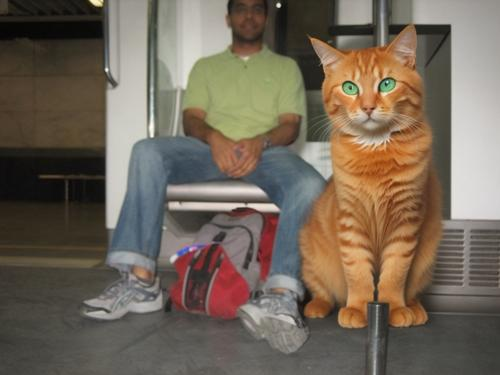cat: (296, 24, 451, 328)
person: (82, 1, 324, 358)
person/foot: (236, 292, 311, 356), (79, 274, 166, 322)
person/hand: (226, 138, 265, 179), (212, 137, 240, 174)
person/head: (225, 1, 269, 43)
